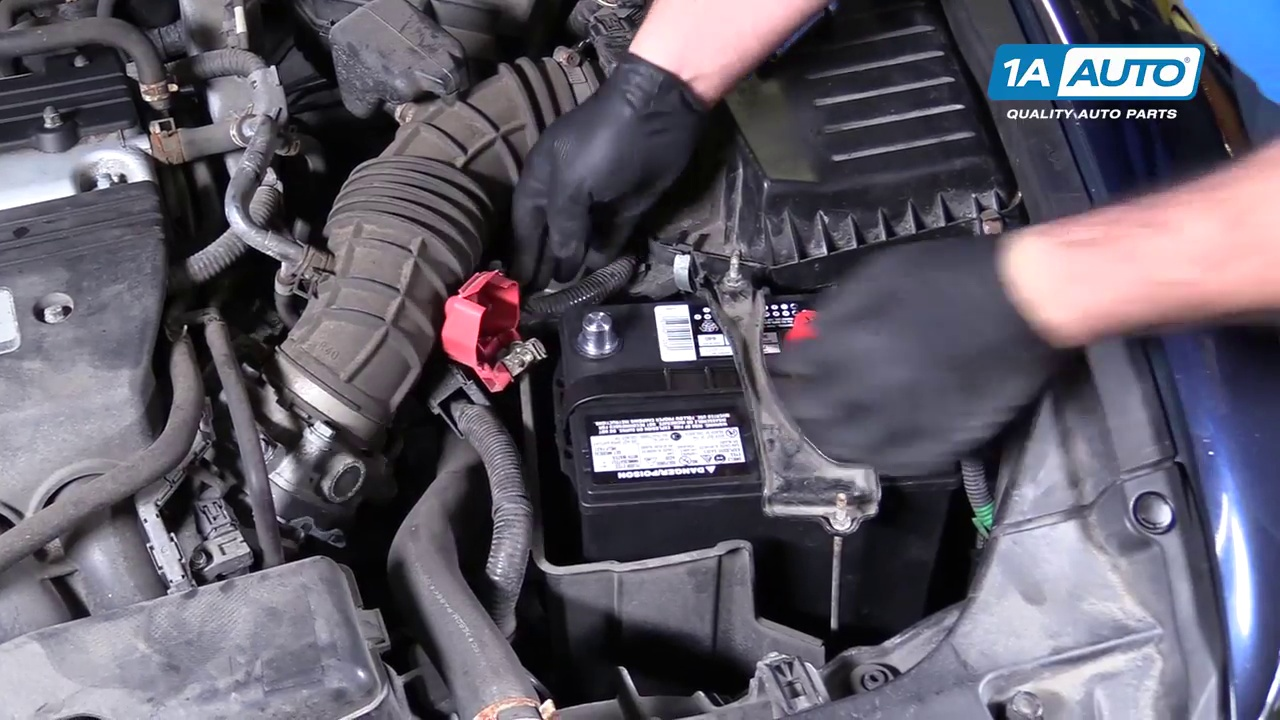battery: (558, 274, 825, 506)
pos_disconnected: (428, 246, 660, 394)
